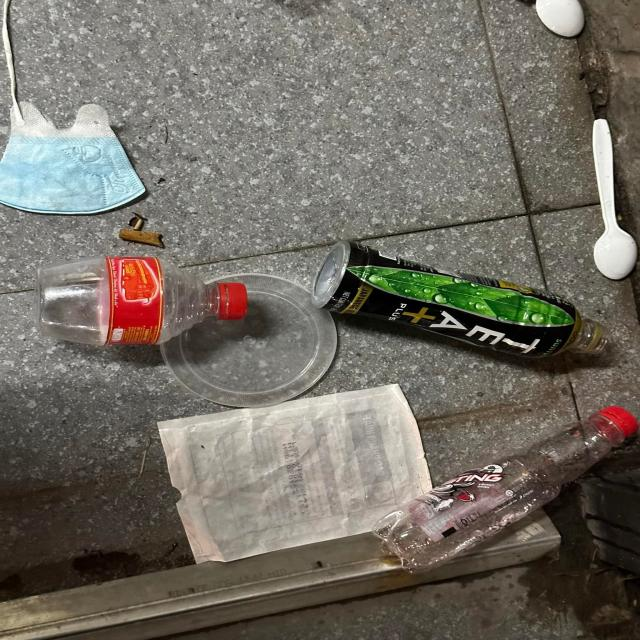bottle: (372, 406, 639, 574), (310, 241, 612, 360), (34, 256, 249, 346)
lid: (160, 273, 339, 408)
mask: (0, 100, 149, 214)
packet: (156, 384, 436, 565)
plastic utensil: (592, 117, 640, 281), (532, 0, 585, 38)
